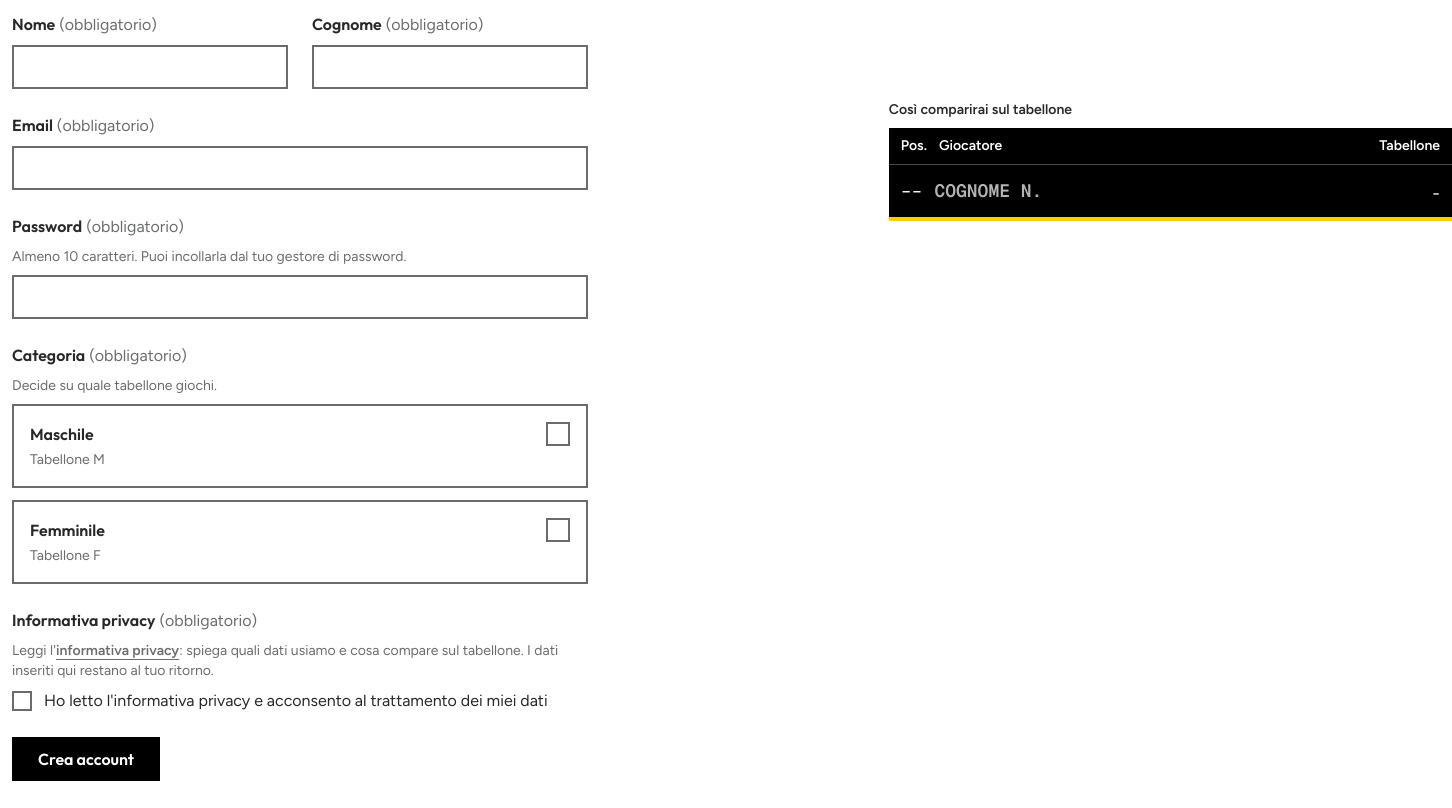
it: SignupForm › aggiorna l'anteprima del tabellone mentre si scrive, nascosta ai lettori di schermo
Expected: the element with test id "signup-board-name" is shown, left=889, top=100, right=1451, bottom=221
In the field labelled "Cognome (obbligatorio)": [450, 67] box left=312, top=45, right=588, bottom=89, type "Colombo"
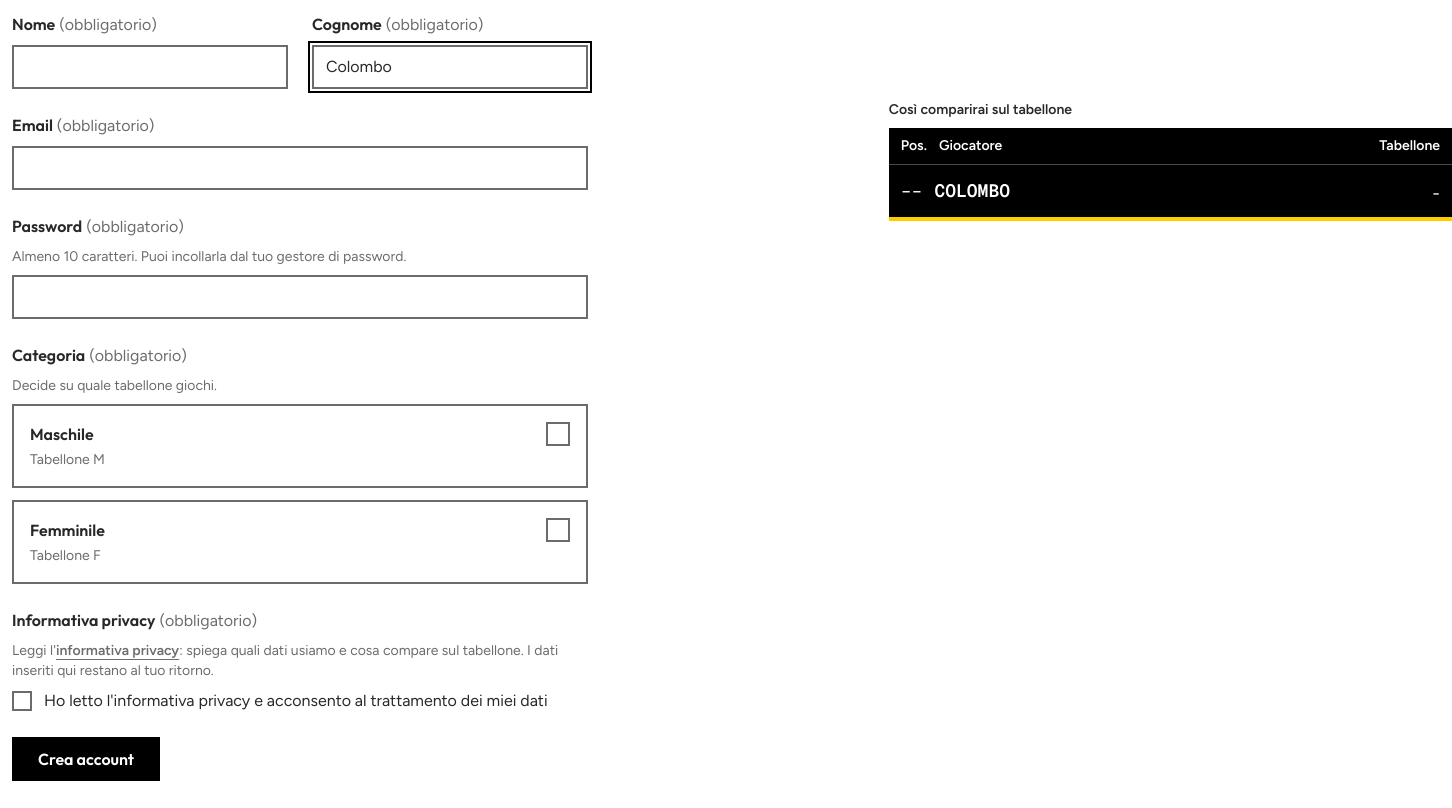
In the field labelled "Nome (obbligatorio)": [150, 67] box left=12, top=45, right=288, bottom=89, type "giulia"
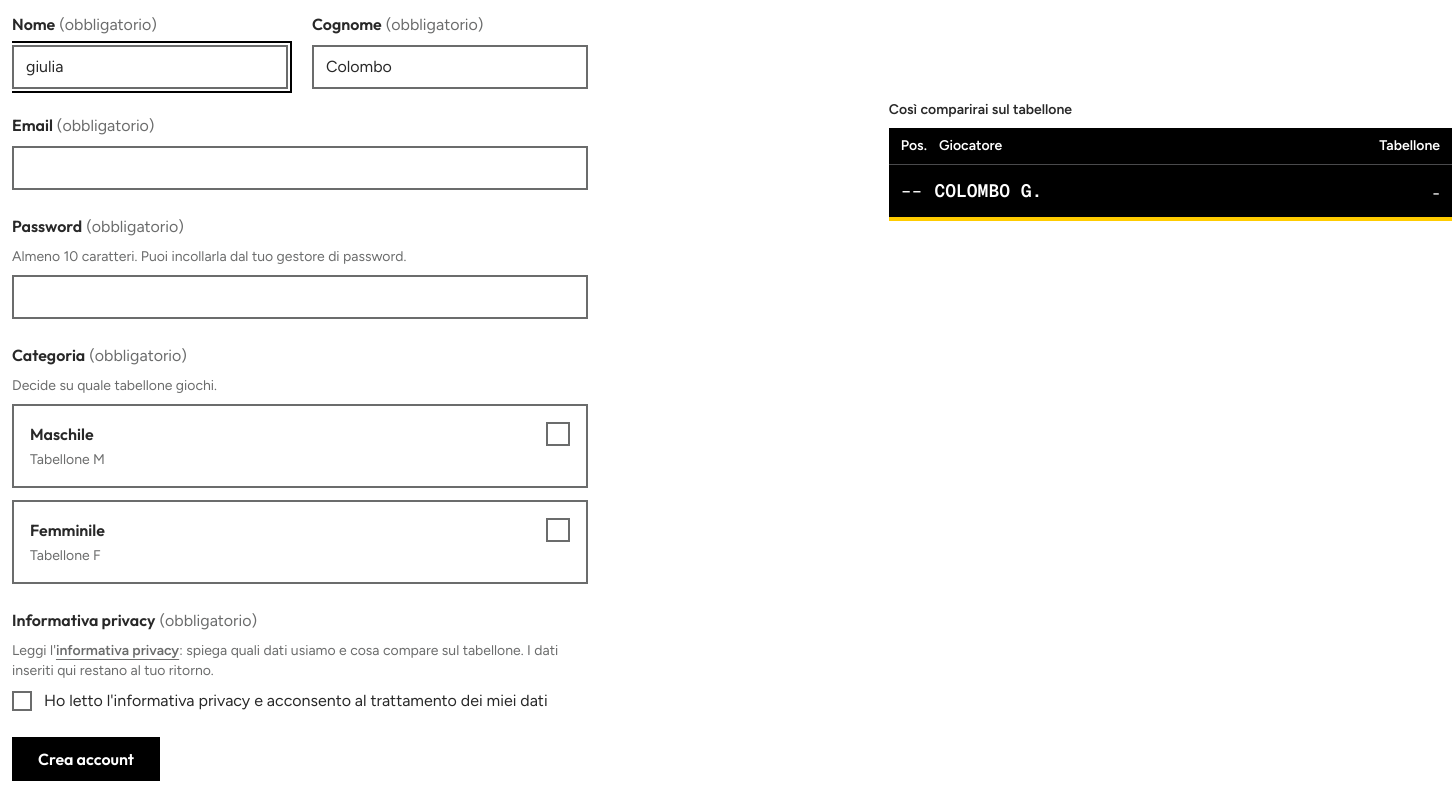
Result: the text with test id "signup-board-name" reads "COLOMBO G." at left=934, top=179, right=1042, bottom=202
